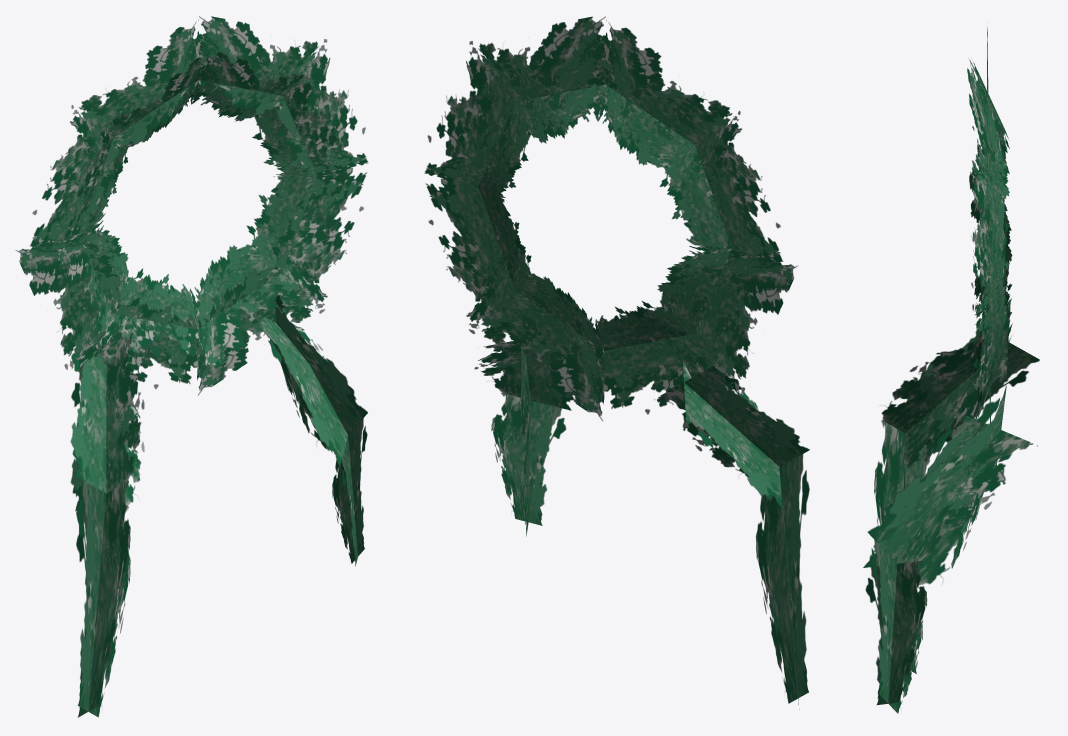
The model's file is wreath01.glb.
The picture shows the model from 3 angles, left to right: view 1: azimuth 30°, elevation 25°; view 2: azimuth 150°, elevation 25°; view 3: azimuth 270°, elevation 25°; orthographic projection. The views are drawn at different scales.
Visible parts, largest first — view 1: Wreath01; view 2: Wreath01; view 3: Wreath01.
Boxes of the visible parts, left/top/right/bottom form: Wreath01: left=15, top=16, right=367, bottom=717; Wreath01: left=424, top=16, right=809, bottom=709; Wreath01: left=863, top=27, right=1039, bottom=713.
Bounding box in the file's own units: 1.58 × 2.68 × 0.6651.
1 material, 1 textured.
